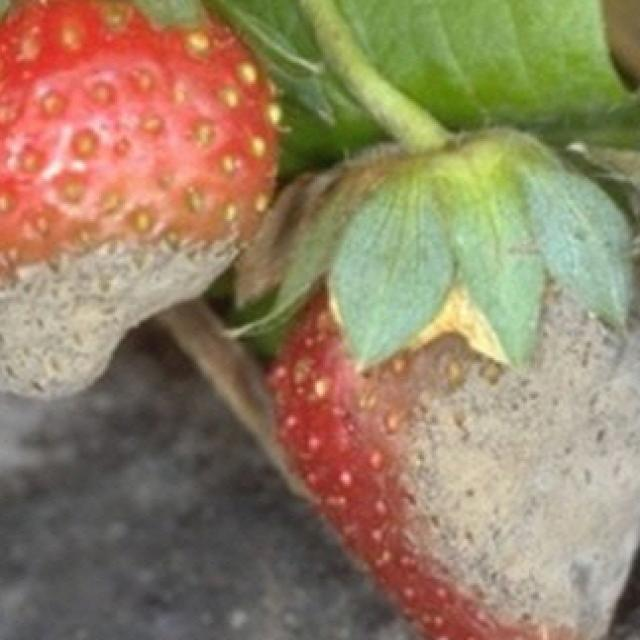Gray Mold: (268, 254, 640, 640), (0, 188, 274, 401)
